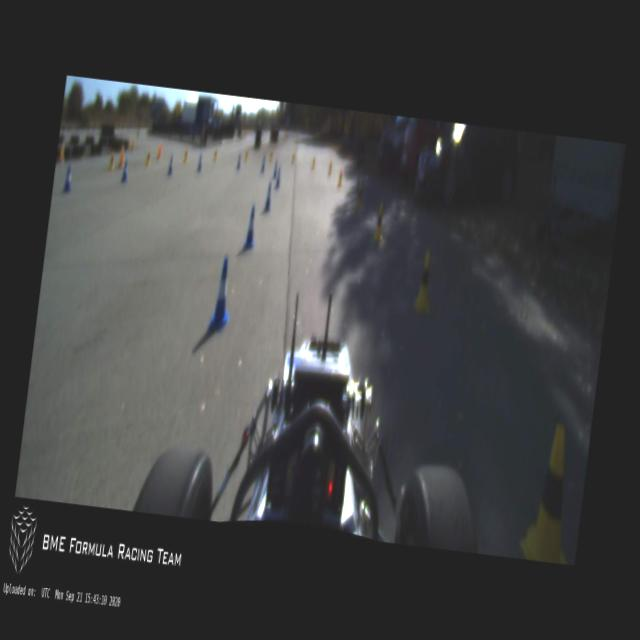blue_cone: (207, 254, 236, 332), (242, 206, 258, 250), (62, 165, 74, 193), (263, 182, 273, 212), (120, 160, 130, 182), (274, 167, 281, 190), (168, 154, 175, 176), (196, 152, 203, 172), (272, 160, 278, 179), (260, 154, 266, 173), (236, 152, 242, 170)
orange_cone: (156, 140, 162, 160), (118, 148, 124, 168)
yellow_cone: (518, 421, 586, 564), (412, 250, 436, 313), (372, 203, 385, 244), (354, 182, 364, 210), (336, 166, 344, 188), (108, 150, 115, 170), (145, 150, 151, 166), (328, 157, 333, 175), (212, 146, 217, 162), (311, 155, 315, 169), (244, 148, 248, 162), (290, 150, 294, 163), (183, 148, 187, 161), (269, 150, 272, 162)
